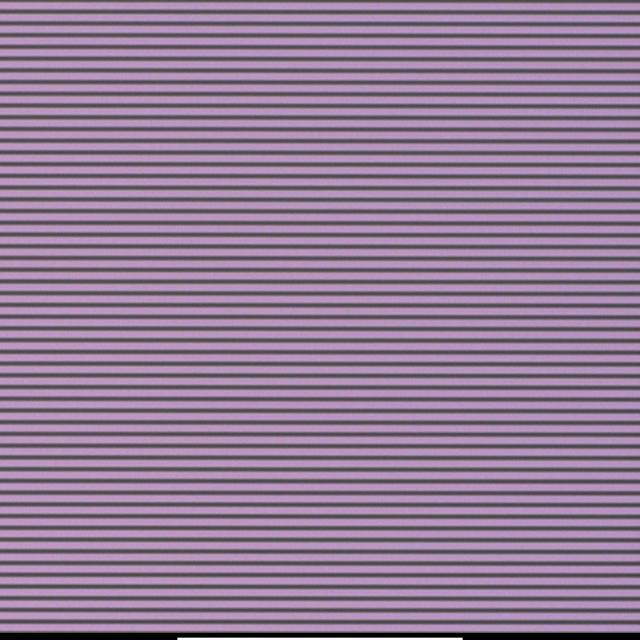nonvisual: (342, 302, 354, 316)
